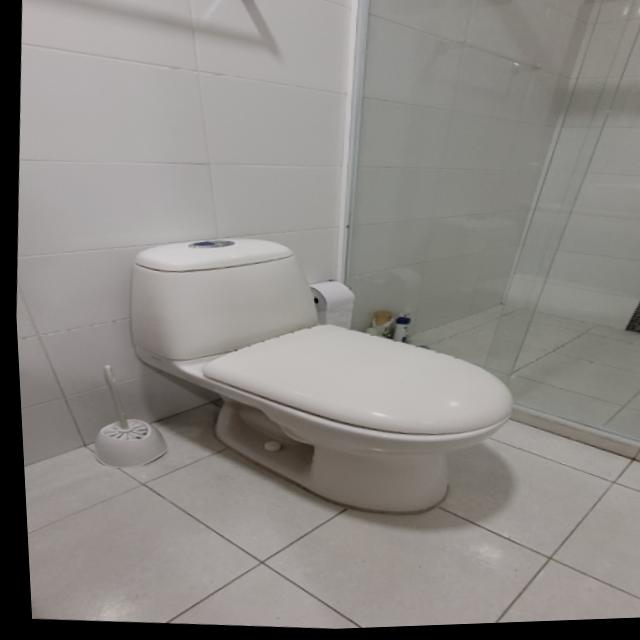toilet: (109, 223, 525, 533)
